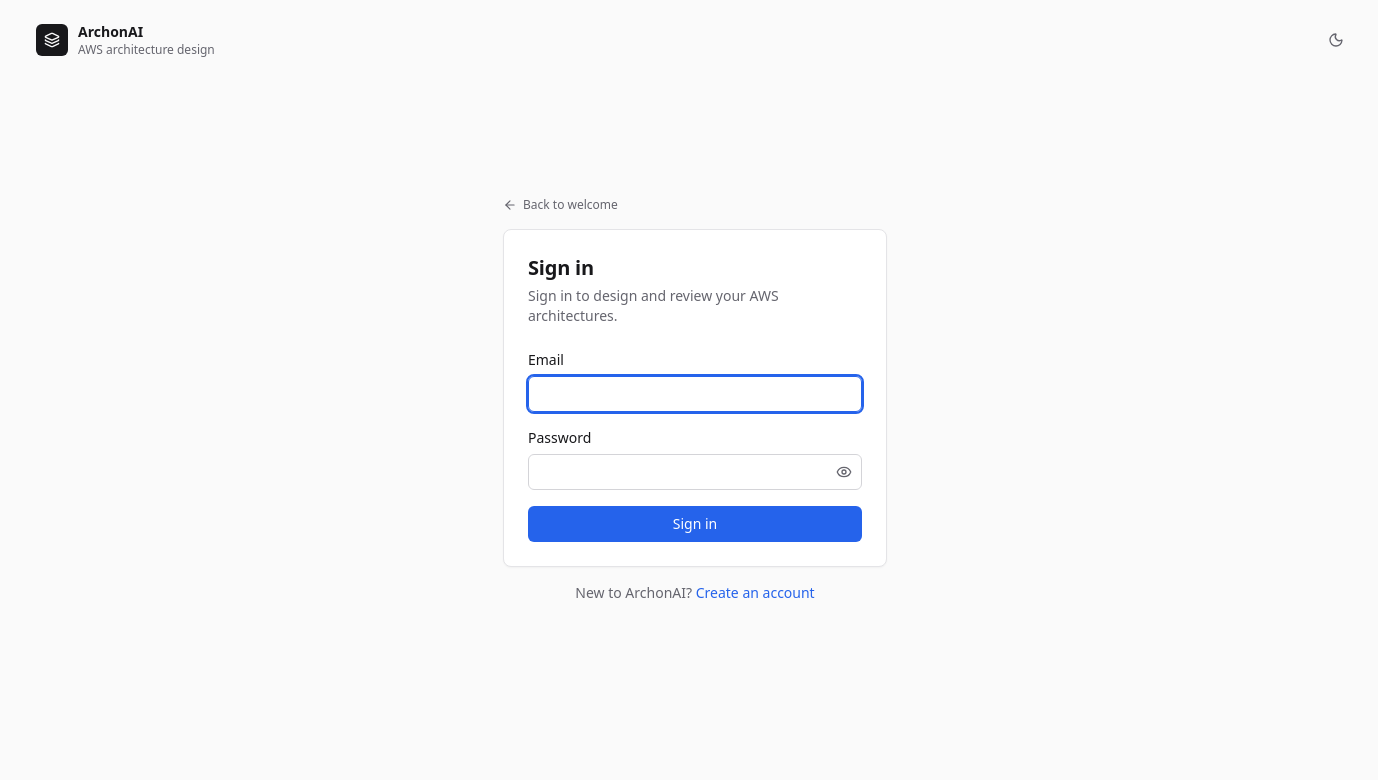
sign in › an unsafe ?next= is ignored after sign-in
The width and height of the screenshot is (1378, 780).
Type "ada@example.com" into the field labelled "Email" at (695, 394), box [528,376,862,412]
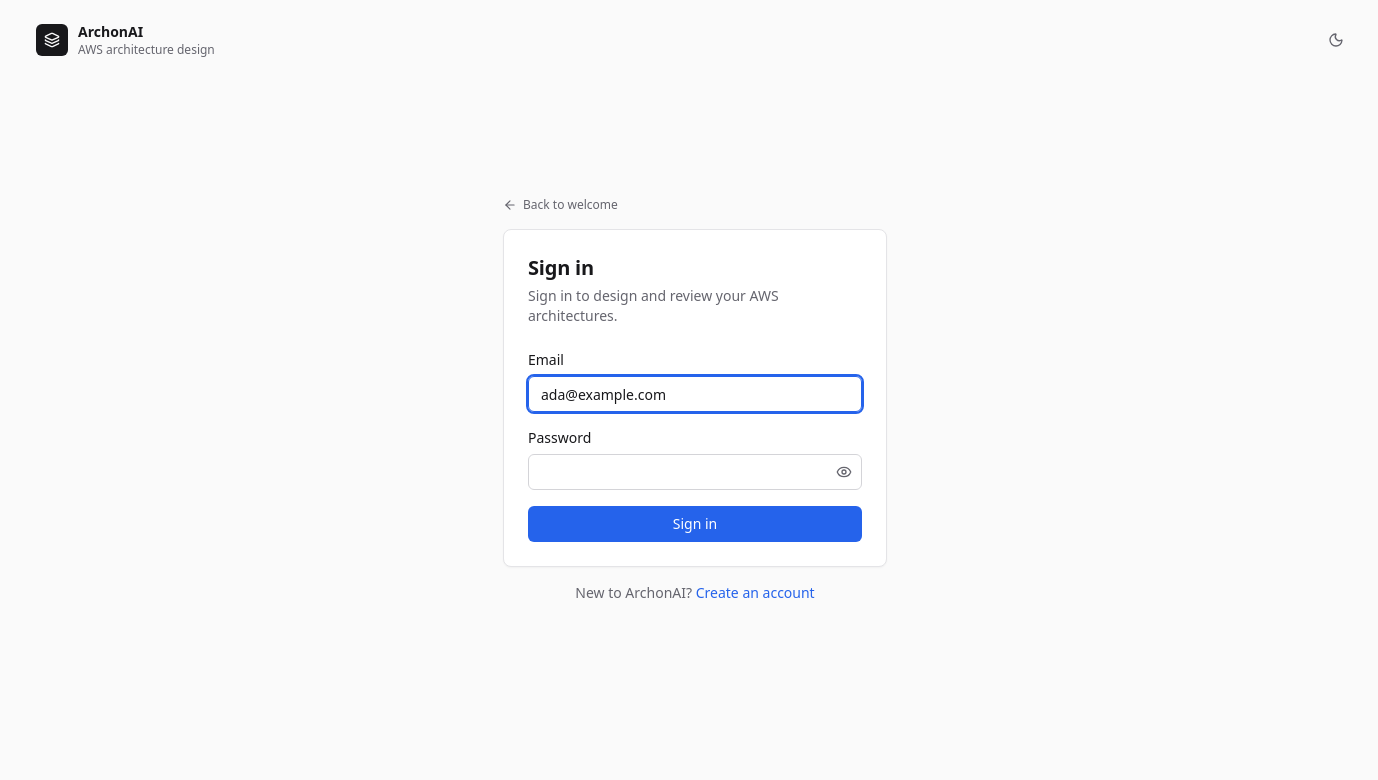
Type "correct horse" into the password field labelled "Password" at (695, 472), box [528,454,862,490]
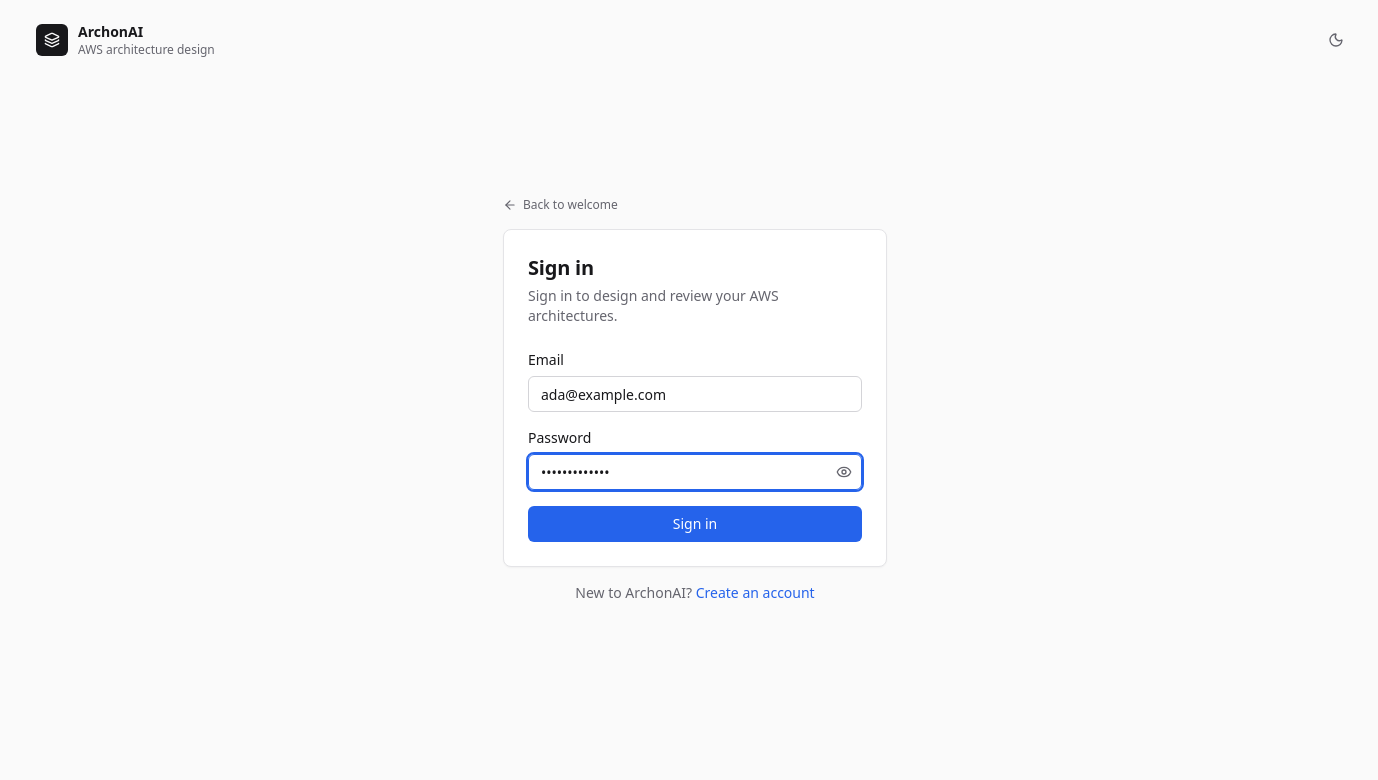
Click the button "Sign in" at (695, 524), box [528,506,862,542]
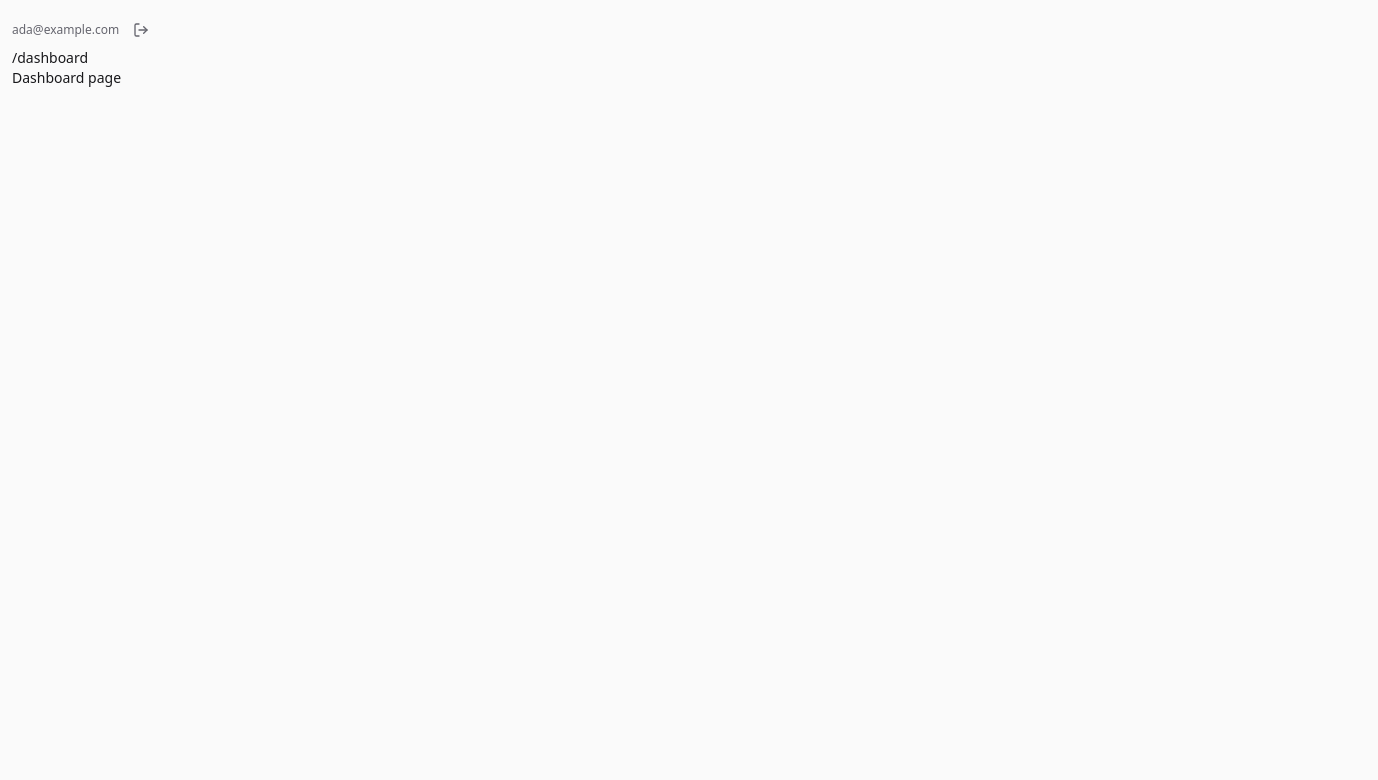
Expected: the text "Dashboard page" is shown, [12,68,121,87]
Expected: the text "/dashboard" is shown, [12,48,88,67]
